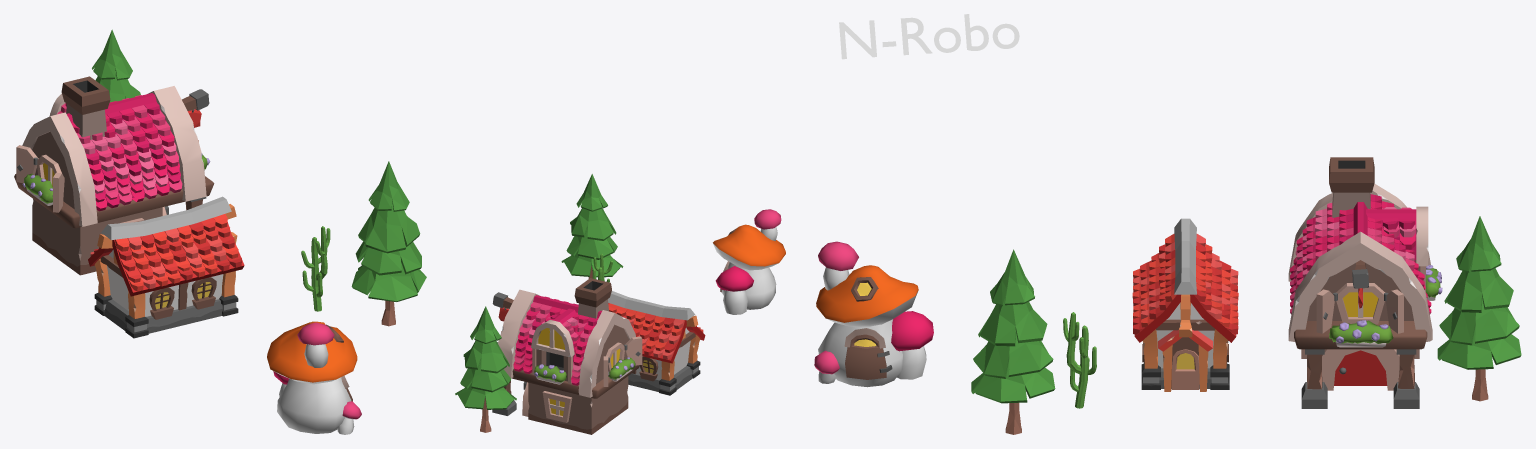
File: pb_sat.glb
3 views of the same model, side by side, from view 1: azimuth 30°, elevation 25°; view 2: azimuth 150°, elevation 25°; view 3: azimuth 270°, elevation 25° (orthographic). The views are drawn at different scales.
Parts seen in each view (by area): view 1: house_002, house_003, house_001, fir_001, fir_001.002, cactus_001.002; view 2: house_002, house_003, house_001, fir_001.002, fir_001; view 3: house_002, house_003, house_001, fir_001, fir_001.002, N-ROBO, cactus_001.002.
Boxes of the visible parts, box(x1,y1,x2,y2) form: house_002: box(14, 76, 214, 275); house_003: box(88, 196, 244, 338); house_001: box(267, 321, 361, 434); fir_001: box(351, 161, 426, 326); fir_001.002: box(92, 29, 140, 102); cactus_001.002: box(301, 226, 330, 311); house_002: box(492, 278, 642, 434); house_003: box(608, 291, 705, 395); house_001: box(713, 209, 785, 314); fir_001.002: box(455, 306, 516, 432); fir_001: box(561, 174, 623, 278); house_002: box(1288, 157, 1442, 408); house_003: box(1132, 218, 1238, 391); house_001: box(814, 241, 933, 387); fir_001: box(971, 249, 1055, 434); fir_001.002: box(1437, 216, 1521, 401); N-ROBO: box(839, 14, 1019, 59); cactus_001.002: box(1063, 312, 1096, 408).
Bounding box in the file's own units: 9.85 × 13.4 × 21.78.
1 material, 1 textured.
